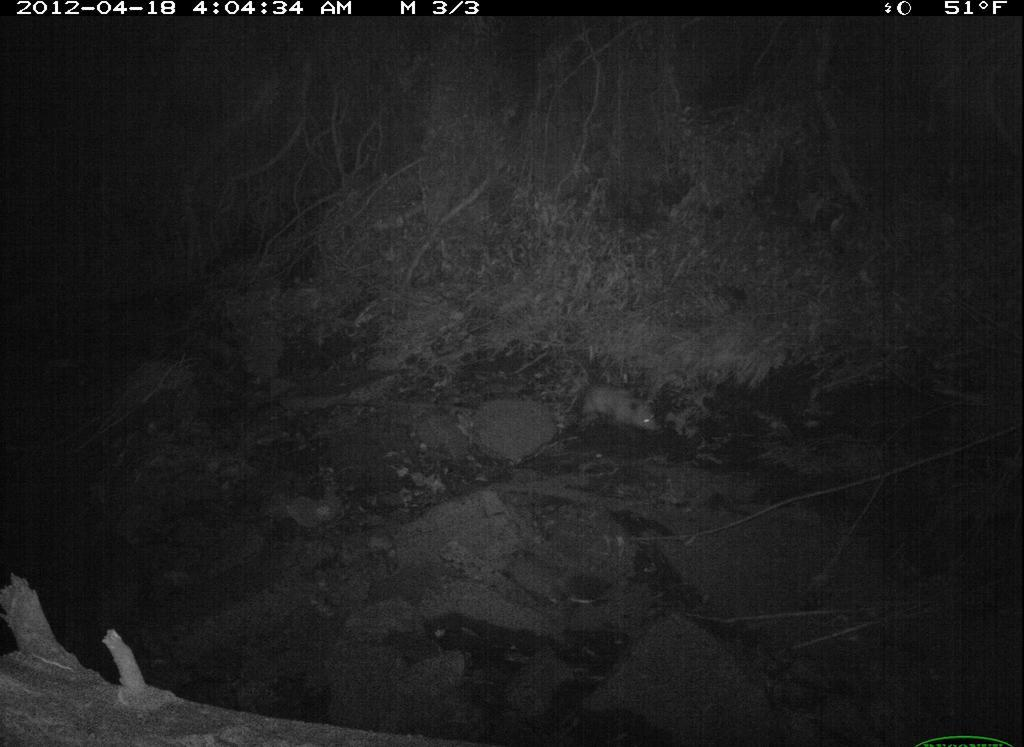opossum: (539, 368, 676, 456)
